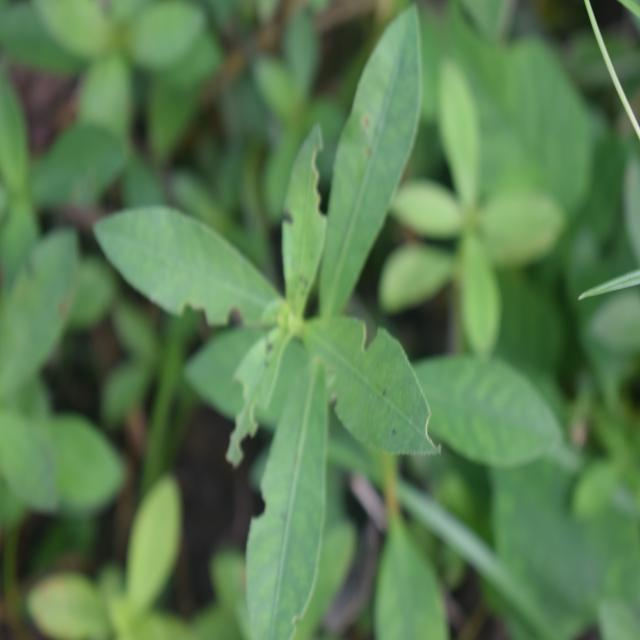Alligatorweed: (92, 56, 467, 577)
